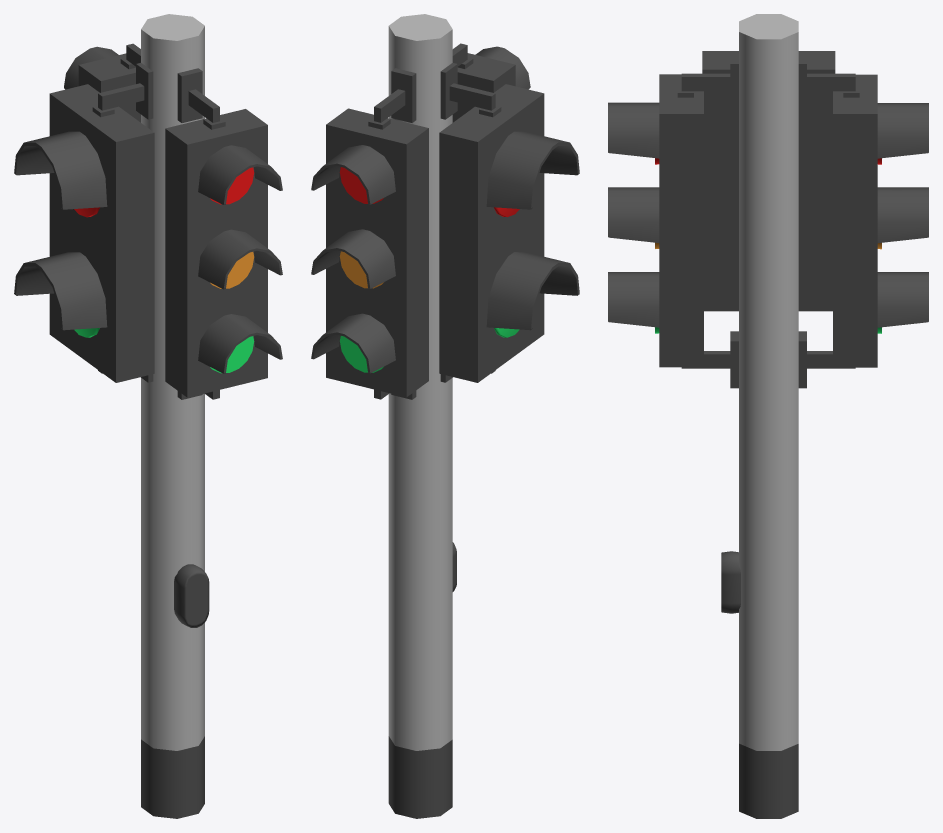
File: trafficlight4car2.fbx
The picture shows the model from 3 angles, left to right: view 1: azimuth 30°, elevation 25°; view 2: azimuth 150°, elevation 25°; view 3: azimuth 270°, elevation 25°; orthographic projection.
Visible parts, largest first — view 1: TrafficLight4Car2, pCube213, pCube407, pCube392, pCube388, pCube390, pCube212, pCube406, pCube391, pCube389, pCube393, pCube400 (+6 smaller); view 2: TrafficLight4Car2, pCube213, pCube407, pCube394, pCube398, pCube396, pCube212, pCube406, pCube399, pCube397, pCube395, pCube392 (+6 smaller); view 3: TrafficLight4Car2, pCube407, pCube213, pCube394, pCube392, pCube398, pCube388, pCube390, pCube396, pCube393, pCube397, pCube391 (+7 smaller).
Part boxes in pixels (x1,y1,x2,y2): TrafficLight4Car2: (141, 14, 209, 818); pCube213: (49, 84, 154, 262); pCube407: (49, 214, 154, 382); pCube392: (165, 109, 267, 228); pCube388: (165, 294, 267, 397); pCube390: (165, 209, 267, 313); pCube212: (14, 131, 107, 209); pCube406: (14, 252, 107, 330); pCube391: (198, 229, 282, 289); pCube389: (198, 314, 282, 373); pCube393: (198, 145, 282, 204); pCube400: (177, 68, 225, 129); TrafficLight4Car2: (388, 14, 456, 818); pCube213: (439, 84, 544, 262); pCube407: (439, 214, 544, 382); pCube394: (326, 108, 428, 228); pCube398: (326, 293, 428, 397); pCube396: (326, 209, 428, 312); pCube212: (486, 131, 579, 209); pCube406: (486, 252, 579, 330); pCube399: (311, 313, 395, 373); pCube397: (311, 229, 395, 288); pCube395: (311, 145, 395, 204); pCube392: (452, 53, 515, 122); TrafficLight4Car2: (721, 14, 798, 818); pCube407: (704, 190, 832, 311); pCube213: (702, 51, 835, 190); pCube394: (833, 74, 877, 198); pCube392: (659, 74, 703, 198); pCube398: (833, 283, 877, 367); pCube388: (659, 283, 703, 367); pCube390: (659, 198, 703, 282); pCube396: (833, 198, 877, 282); pCube393: (608, 102, 659, 158); pCube397: (877, 187, 928, 242); pCube391: (608, 187, 659, 242).
Size of the model in its own units: 76.04 by 323 by 120.
